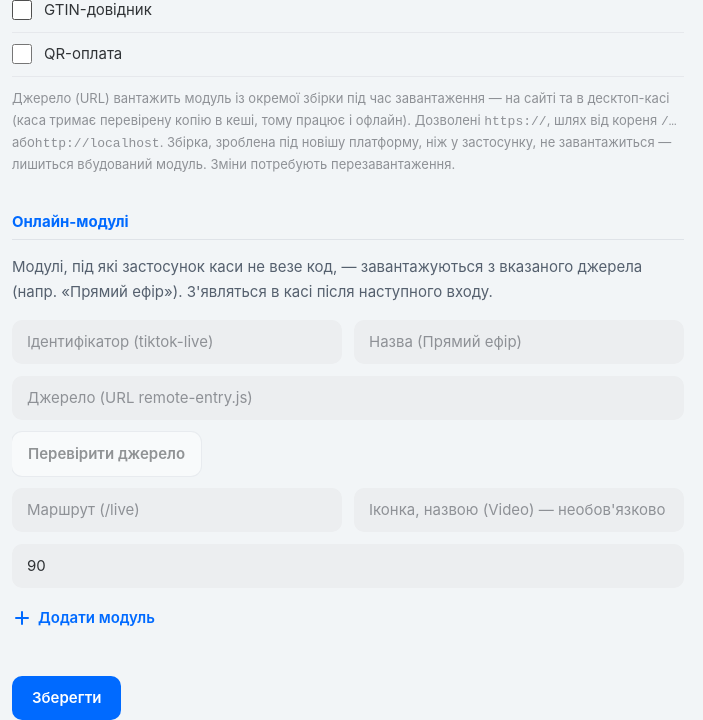
it: Settings — adding an online-only module › fills the id in from the source manifest
(page scrolled)
Type "https://cdn.example.test/tiktok-live@v1.0.8/remote-entry.js" into the field with placeholder "Джерело (URL remote-entry.js)".
click(348, 398); type("https://cdn.example.test/tiktok-live@v1.0.8/remote-entry.js")  # box [12,376,684,420]
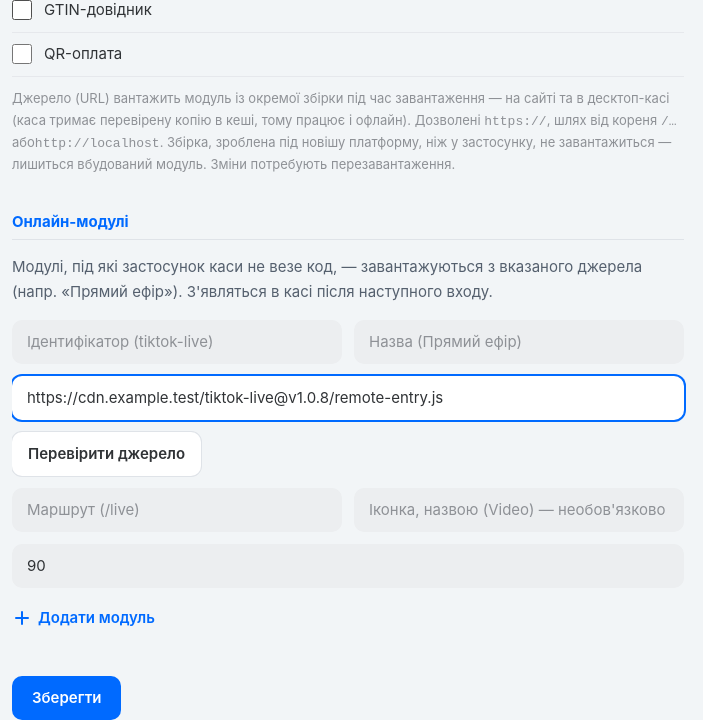
Click the button "Перевірити джерело".
click(107, 454)  # box [12,432,201,476]
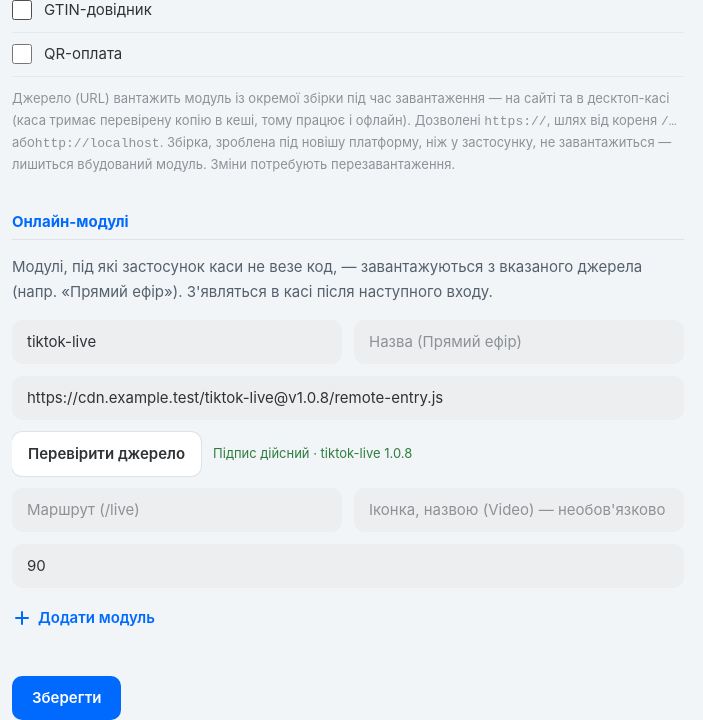
Result: the 1st field with placeholder "Ідентифікатор (tiktok-live)" holds "tiktok-live" at [12,320,342,364]
Result: the text "Підпис дійсний · tiktok-live 1.0.8" is shown at [213,444,412,464]
